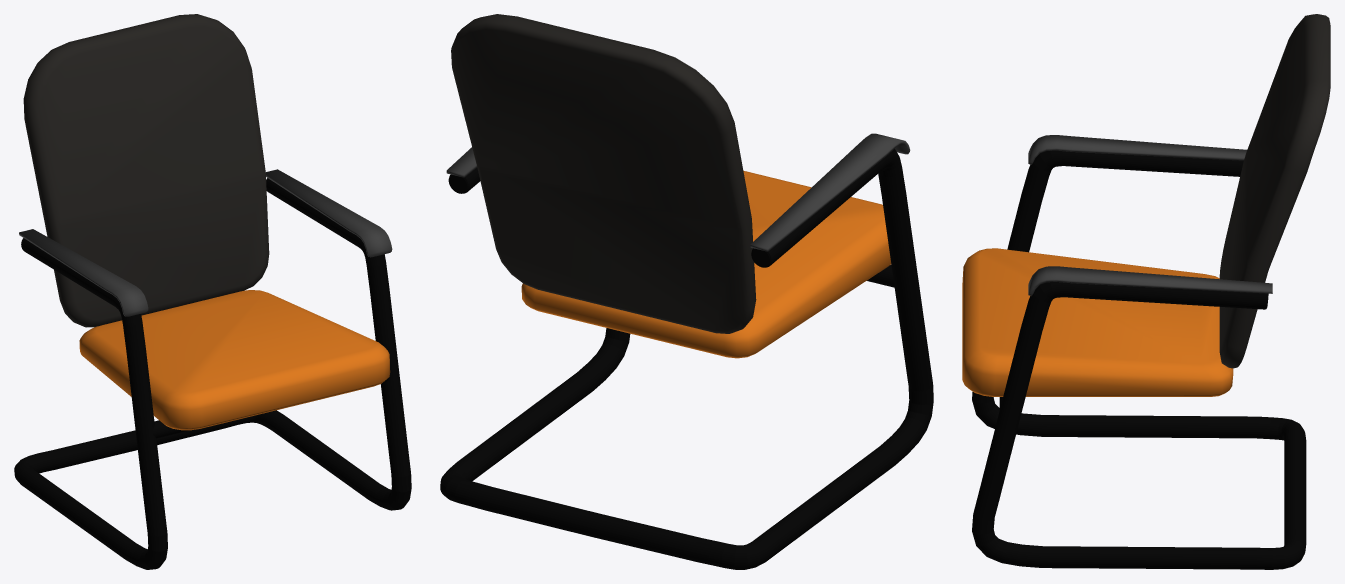
The model's file is cadeira secretaria.fbx.
The picture shows the model from 3 angles, left to right: view 1: azimuth 30°, elevation 25°; view 2: azimuth 150°, elevation 25°; view 3: azimuth 270°, elevation 25°; orthographic projection. The views are drawn at different scales.
Visible parts, largest first — view 1: Cube.005, Cube.004, Cylinder.001, Cube.006; view 2: Cube.005, Cylinder.001, Cube.004, Cube.006; view 3: Cylinder.001, Cube.004, Cube.005, Cube.006.
Boxes of the visible parts, <box> form: Cube.005: <box>23,14,269,327</box>; Cube.004: <box>79,290,390,430</box>; Cylinder.001: <box>14,178,411,569</box>; Cube.006: <box>19,169,392,316</box>; Cube.005: <box>451,14,756,333</box>; Cylinder.001: <box>440,148,933,569</box>; Cube.004: <box>521,170,891,358</box>; Cube.006: <box>446,133,910,251</box>; Cylinder.001: <box>972,150,1306,569</box>; Cube.004: <box>962,248,1233,396</box>; Cube.005: <box>1219,14,1330,368</box>; Cube.006: <box>1028,135,1272,296</box>.
Bounding box in the file's own units: 1.16 × 1.71 × 1.26.
